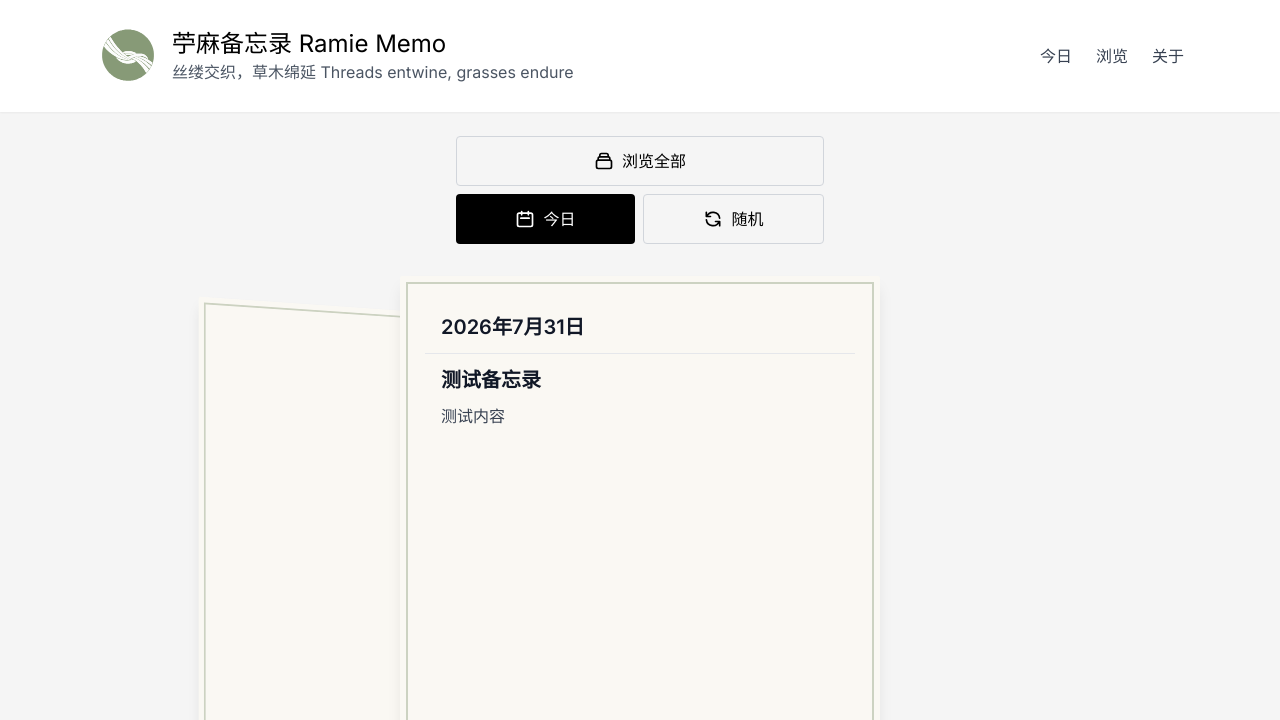
Test case: Random Mode Deck Layout Verification › should keep deck cards contained within memo boundaries
Click the button "随机" at coordinates (734, 219), box [643,194,824,244]
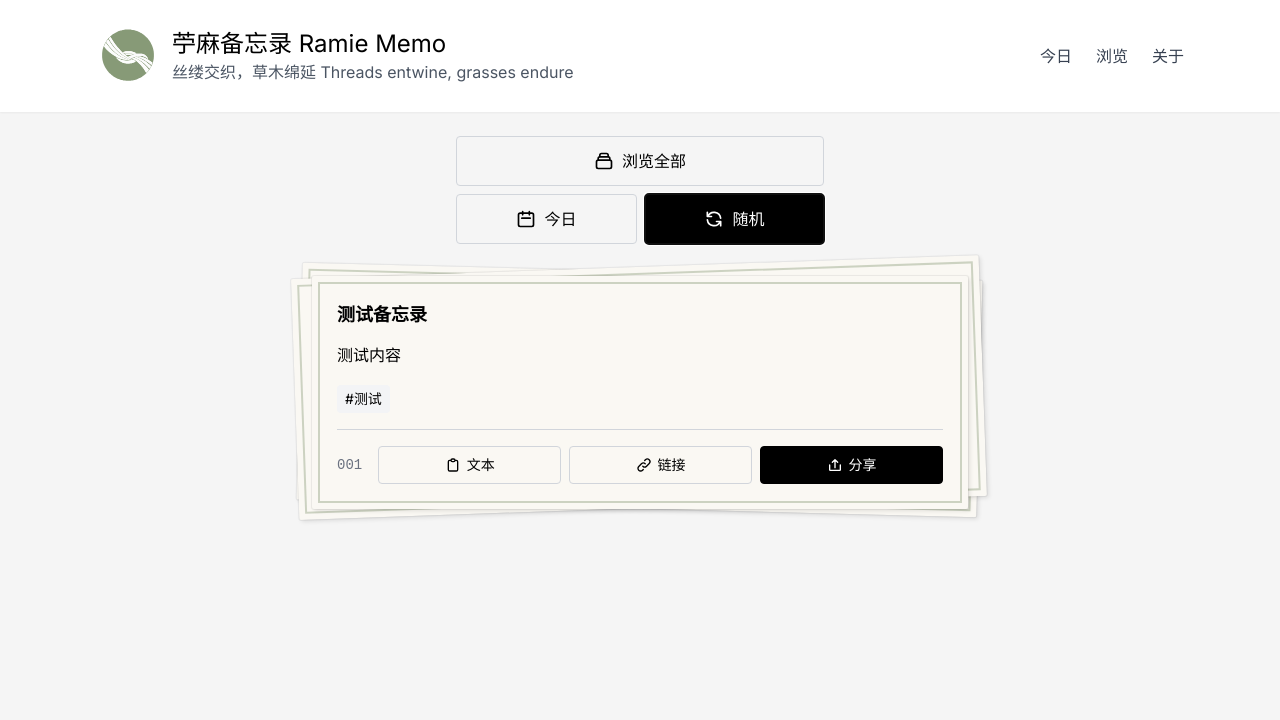
Expected: the 2nd element with class "memo-card-no-animation" is shown, [296,263,982,517]
